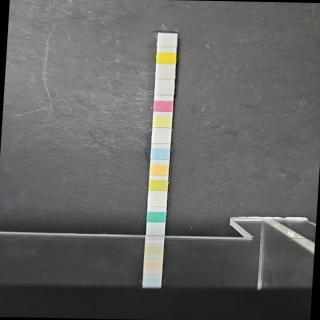mark: (148, 195, 166, 208), (150, 164, 168, 176), (152, 148, 170, 160), (152, 132, 170, 144), (154, 100, 172, 112), (154, 116, 171, 128), (156, 84, 173, 96), (158, 52, 175, 64), (157, 69, 175, 80), (158, 37, 176, 48), (150, 180, 167, 191), (148, 212, 164, 223)
